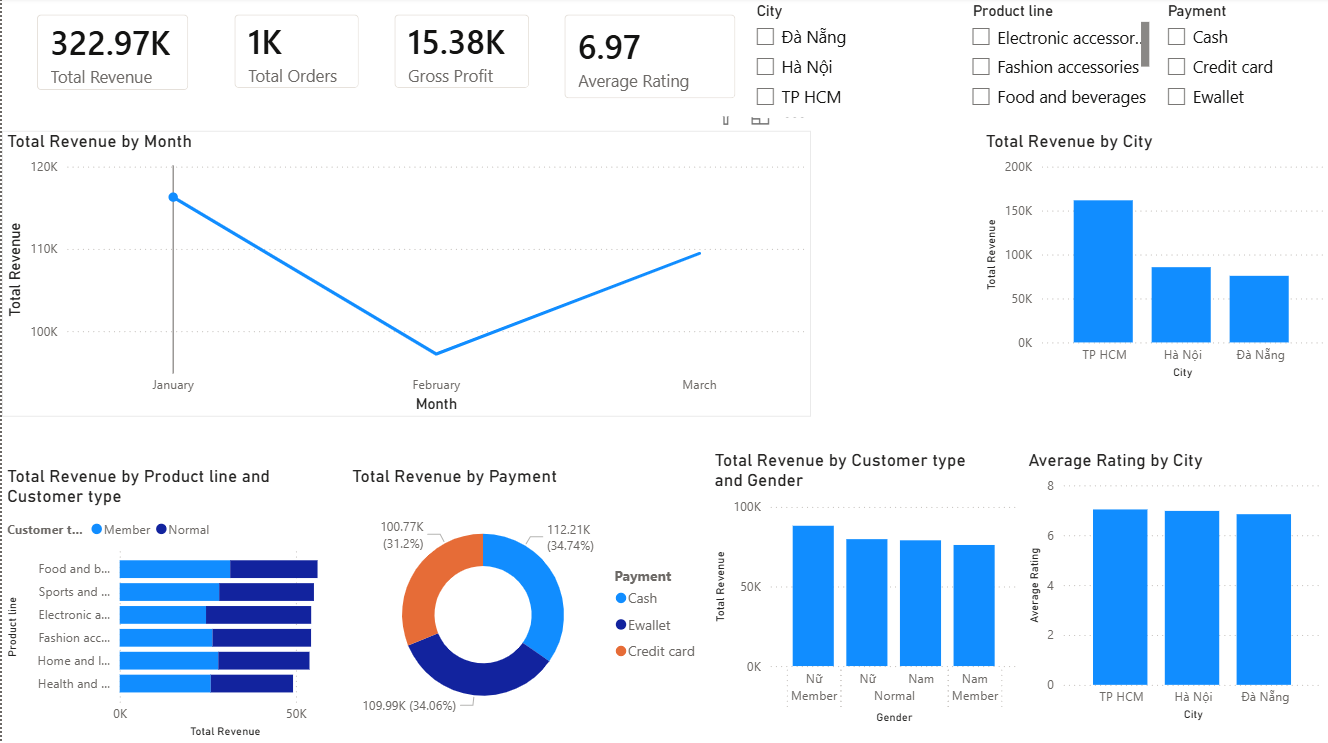

Layout of this report page (visuals, bound fields, positions):
{"tool":"powerbi","page":{"name":"Page 1","canvas":[1280,720],"ordinal":0},"visuals":[{"type":"cardVisual","fields":{"Data":["supermarket_sales_vn.Total Revenue"]},"box":[17.1,0,180,107.1],"z":0},{"type":"barChart","fields":{"Category":["supermarket_sales_vn.Product line"],"Y":["supermarket_sales_vn.Total Revenue"],"Series":["supermarket_sales_vn.Customer type"]},"box":[0,452.9,332.9,267.1],"z":1000},{"type":"clusteredColumnChart","fields":{"Category":["supermarket_sales_vn.Customer type","supermarket_sales_vn.Gender"],"Y":["supermarket_sales_vn.Total Revenue"]},"box":[682.9,437.1,302.9,270],"z":2000},{"type":"lineChart","fields":{"Y":["supermarket_sales_vn.Total Revenue"],"Category":["supermarket_sales_vn.Date.Variation.Date Hierarchy.Month"]},"box":[0,128.6,780,277.1],"z":3000},{"type":"donutChart","fields":{"Category":["supermarket_sales_vn.Payment"],"Y":["supermarket_sales_vn.Total Revenue"]},"box":[332.9,452.9,350,267.1],"z":4000},{"type":"clusteredColumnChart","fields":{"Category":["supermarket_sales_vn.City"],"Y":["supermarket_sales_vn.Total Revenue"]},"box":[944.3,128.6,335.7,244.3],"z":5000},{"type":"columnChart","fields":{"Category":["supermarket_sales_vn.City"],"Y":["supermarket_sales_vn.Average Rating"]},"box":[985.7,437.1,294.3,267.1],"z":6000},{"type":"cardVisual","fields":{"Data":["supermarket_sales_vn.Total Orders"]},"box":[207.1,0,154.3,105.7],"z":7000},{"type":"cardVisual","fields":{"Data":["supermarket_sales_vn.Gross Profit"]},"box":[361.4,0,164.3,105.7],"z":8000},{"type":"cardVisual","fields":{"Data":["supermarket_sales_vn.Average Rating"]},"box":[525.5,0,199.1,115.5],"z":9000},{"type":"slicer","fields":{"Values":["supermarket_sales_vn.City"]},"box":[715.7,0,208.6,115.7],"z":10000},{"type":"slicer","fields":{"Values":["supermarket_sales_vn.Product line"]},"box":[924.3,0,188.6,115.7],"z":11000},{"type":"slicer","fields":{"Values":["supermarket_sales_vn.Payment"]},"box":[1112.9,0,167.1,115.7],"z":12000}]}

Visuals, with their boxes in screenshot pixels (x1, y1, x2, y2), scaled from the page's 1280x720 canvas onto the 1328x743 screenshot:
cardVisual - supermarket_sales_vn.Total Revenue: select_region(18, 0, 204, 111)
barChart - supermarket_sales_vn.Product line x supermarket_sales_vn.Total Revenue: select_region(0, 467, 345, 742)
clusteredColumnChart - supermarket_sales_vn.Customer type x supermarket_sales_vn.Gender: select_region(709, 451, 1023, 730)
lineChart - supermarket_sales_vn.Total Revenue x supermarket_sales_vn.Date.Variation.Date Hierarchy.Month: select_region(0, 133, 809, 419)
donutChart - supermarket_sales_vn.Payment x supermarket_sales_vn.Total Revenue: select_region(345, 467, 709, 742)
clusteredColumnChart - supermarket_sales_vn.City x supermarket_sales_vn.Total Revenue: select_region(980, 133, 1327, 385)
columnChart - supermarket_sales_vn.City x supermarket_sales_vn.Average Rating: select_region(1023, 451, 1327, 727)
cardVisual - supermarket_sales_vn.Total Orders: select_region(215, 0, 375, 109)
cardVisual - supermarket_sales_vn.Gross Profit: select_region(375, 0, 545, 109)
cardVisual - supermarket_sales_vn.Average Rating: select_region(545, 0, 752, 119)
slicer - supermarket_sales_vn.City: select_region(743, 0, 959, 119)
slicer - supermarket_sales_vn.Product line: select_region(959, 0, 1155, 119)
slicer - supermarket_sales_vn.Payment: select_region(1155, 0, 1327, 119)
